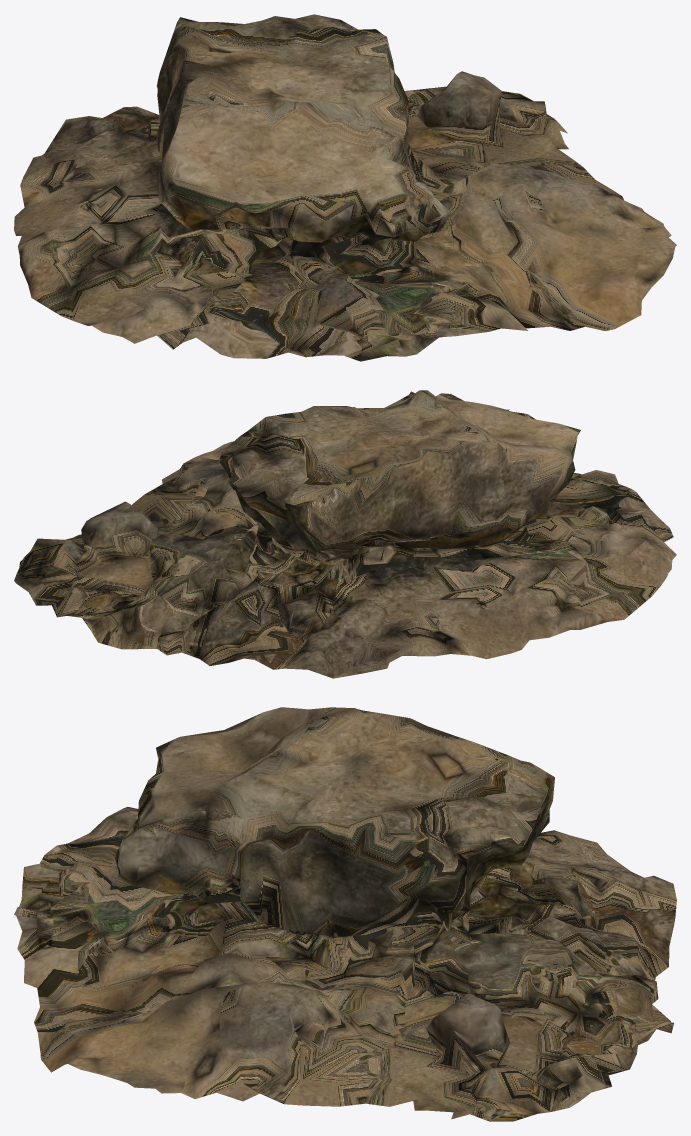
The model's file is coast_rocks_05.glb.
The picture shows the model from 3 angles, top to bottom: view 1: azimuth 30°, elevation 25°; view 2: azimuth 150°, elevation 25°; view 3: azimuth 270°, elevation 25°; orthographic projection. The views are drawn at different scales.
Parts seen in each view (by area): view 1: coast_rocks_05; view 2: coast_rocks_05; view 3: coast_rocks_05.
Boxes of the visible parts, x1,y1,x2,y2 form: coast_rocks_05: [14, 14, 676, 361]; coast_rocks_05: [14, 390, 676, 678]; coast_rocks_05: [14, 707, 676, 1121].
Size of the model in its own units: 4.01 by 1.31 by 3.7.
1 material, 1 textured.
